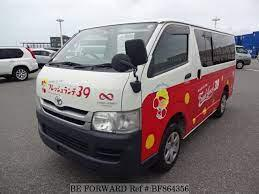Van: (38, 18, 241, 164)
